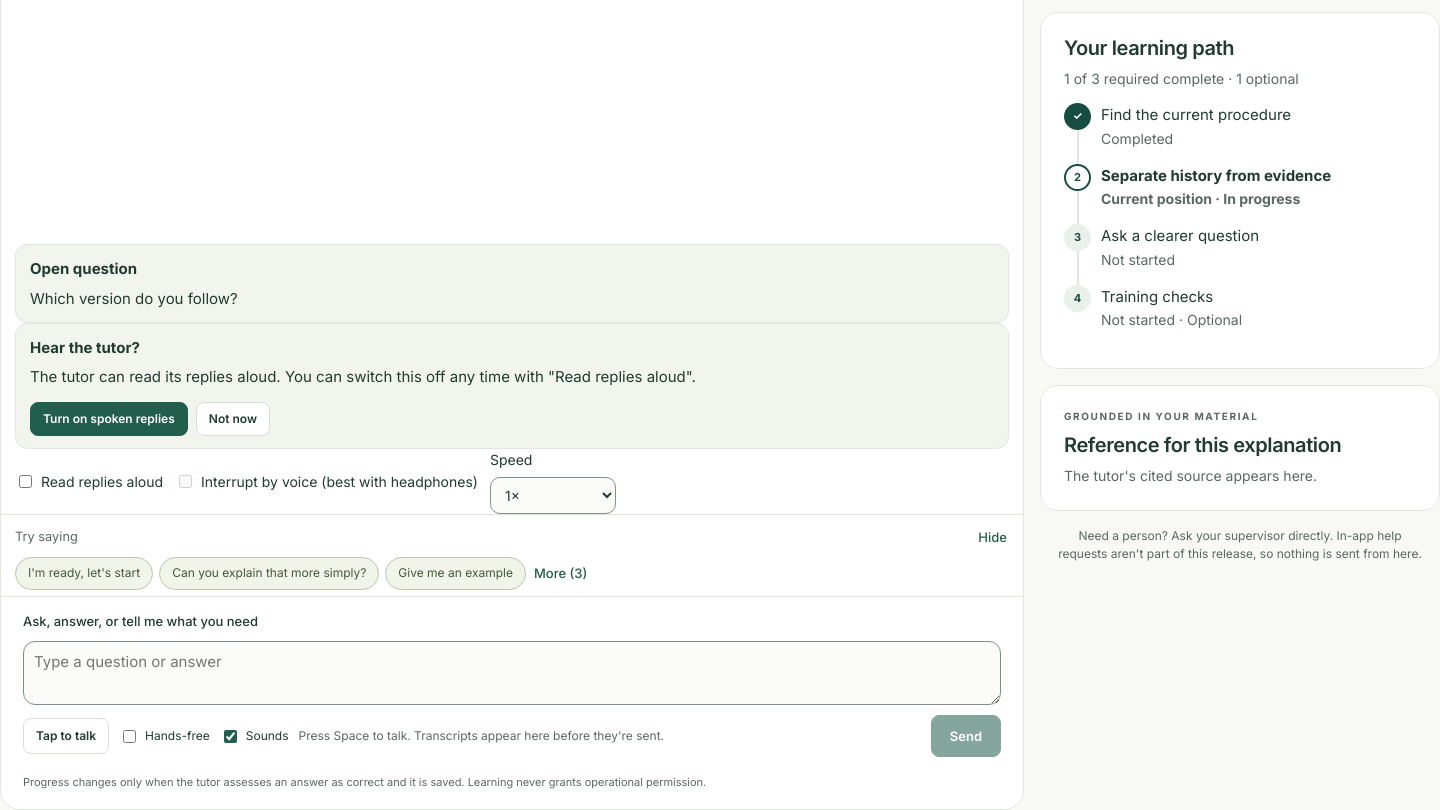
hearing the tutor (read aloud offer and fresh openings) › offers spoken replies once; turning them on reads the latest reply and remembers it
(page scrolled)
expect the element with test id "read-aloud-offer" shows "Hear the tutor?": met, box [30,338,140,357]
Click the button "Turn on spoken replies".
click(109, 419)  # box [30,402,188,436]
(page scrolled)
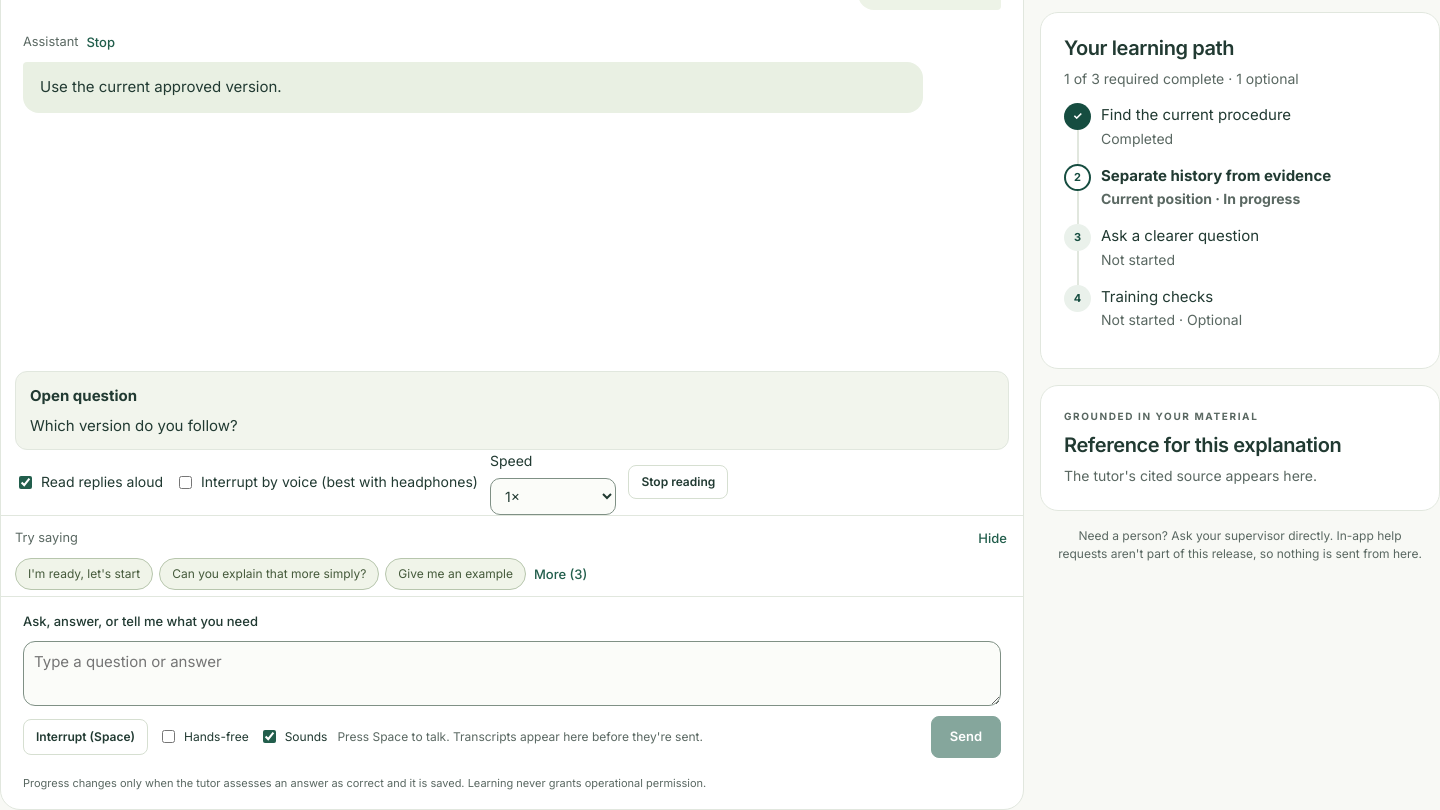
expect the element with test id "read-aloud-offer" is gone: met
expect the switch labelled "Read replies aloud" is checked: met, box [19,476,32,489]
